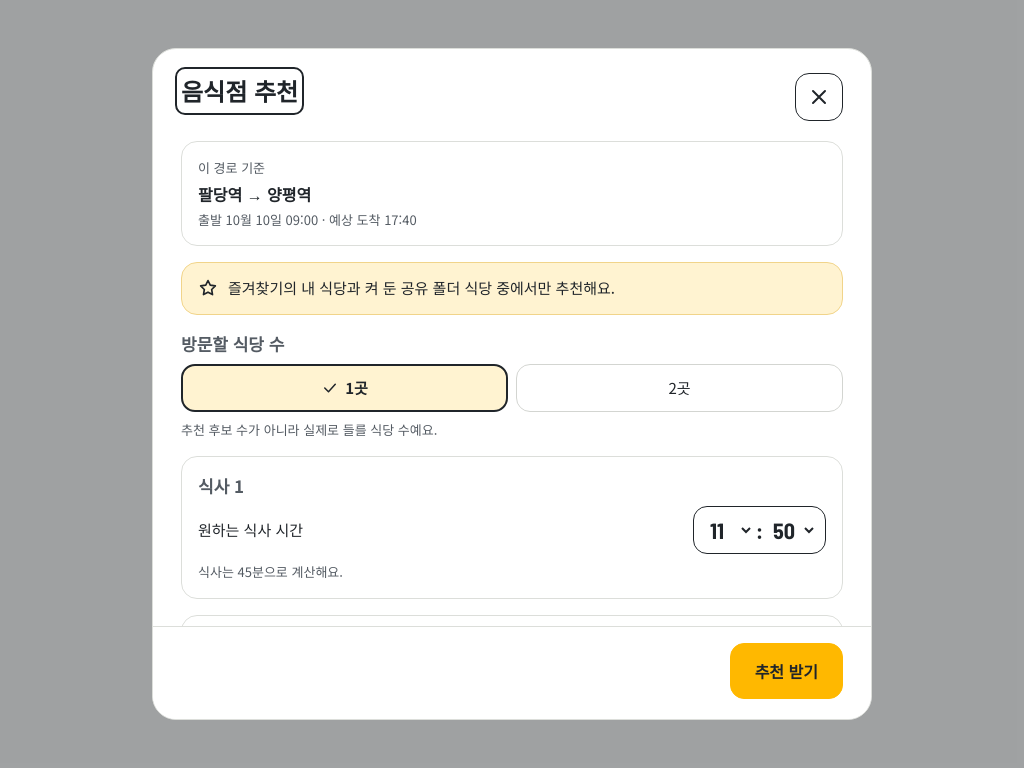
restaurant recommendation with shared folders (SRC02, SRC02b, SRC03) › shows each candidate's source, the left-out counts and the folder settings link
The width and height of the screenshot is (1024, 768).
Click the button "추천 받기".
click(786, 671)  # box [730,643,843,699]
(page scrolled)
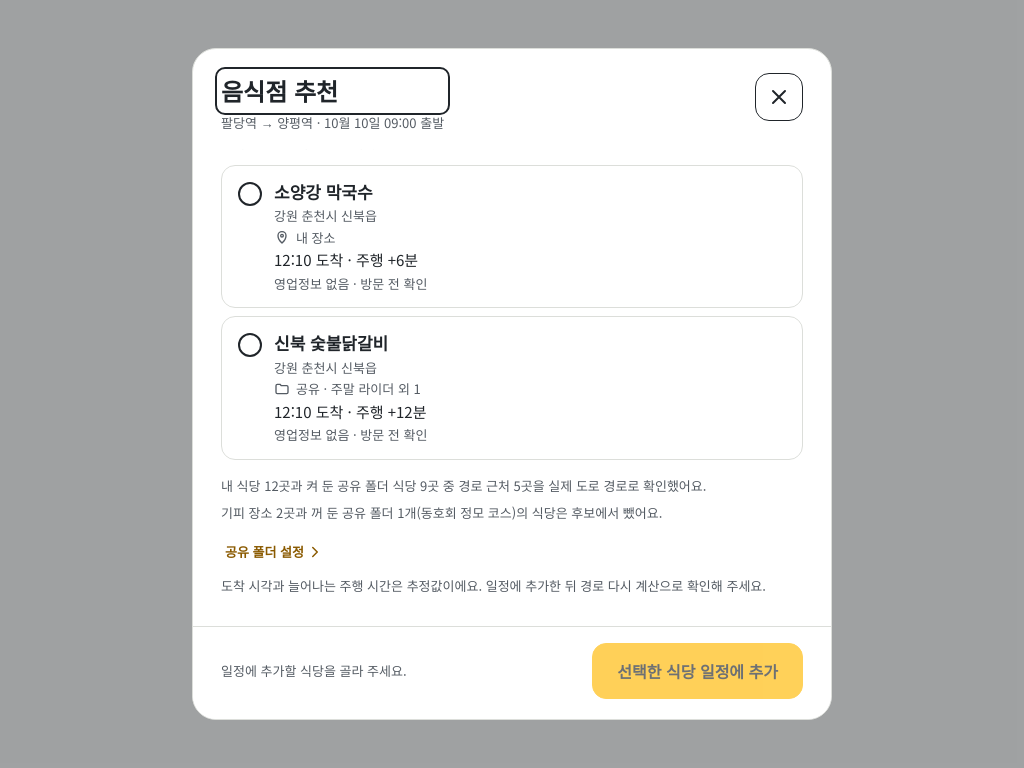
Expected: the text "내 식당 12곳과 켜 둔 공유 폴더 식당 9곳 중 경로 근처 5곳을 실제 도로 경로로 확인했어요." is shown, [221,476,706,495]
Expected: the text "기피 장소 2곳과 꺼 둔 공유 폴더 1개(동호회 정모 코스)의 식당은 후보에서 뺐어요." is shown, [221,503,662,522]
Click the button "공유 폴더 설정".
click(274, 552)  # box [221,528,328,576]
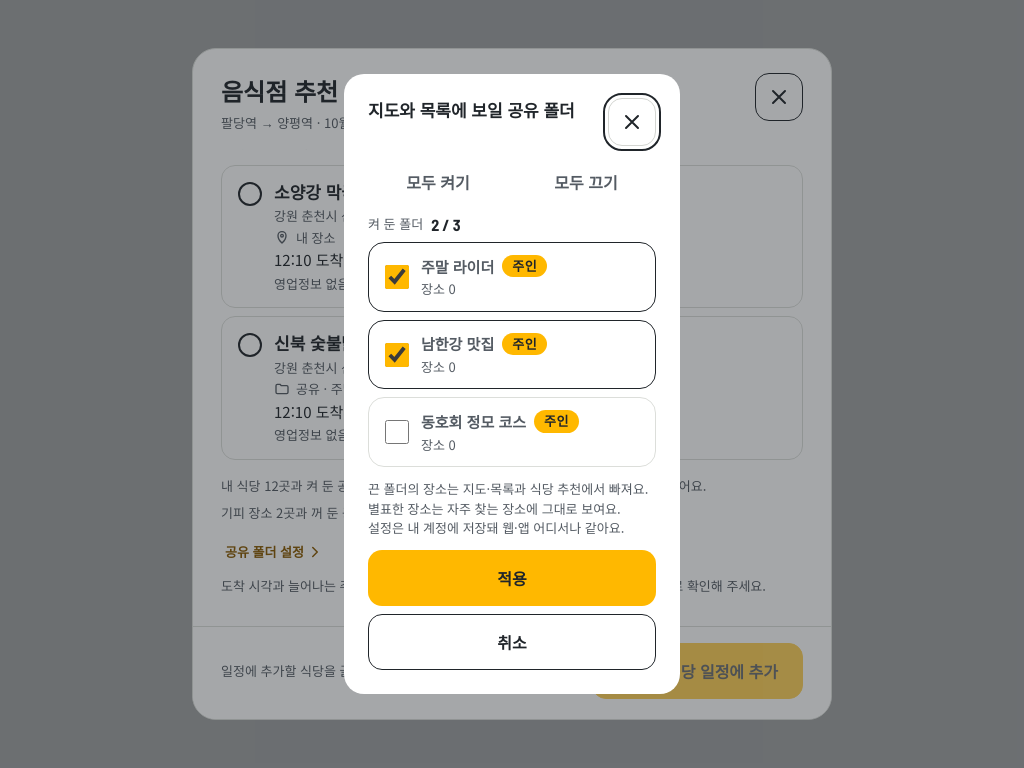
Expected: the text "지도와 목록에 보일 공유 폴더" is shown, [368,98,596,122]
